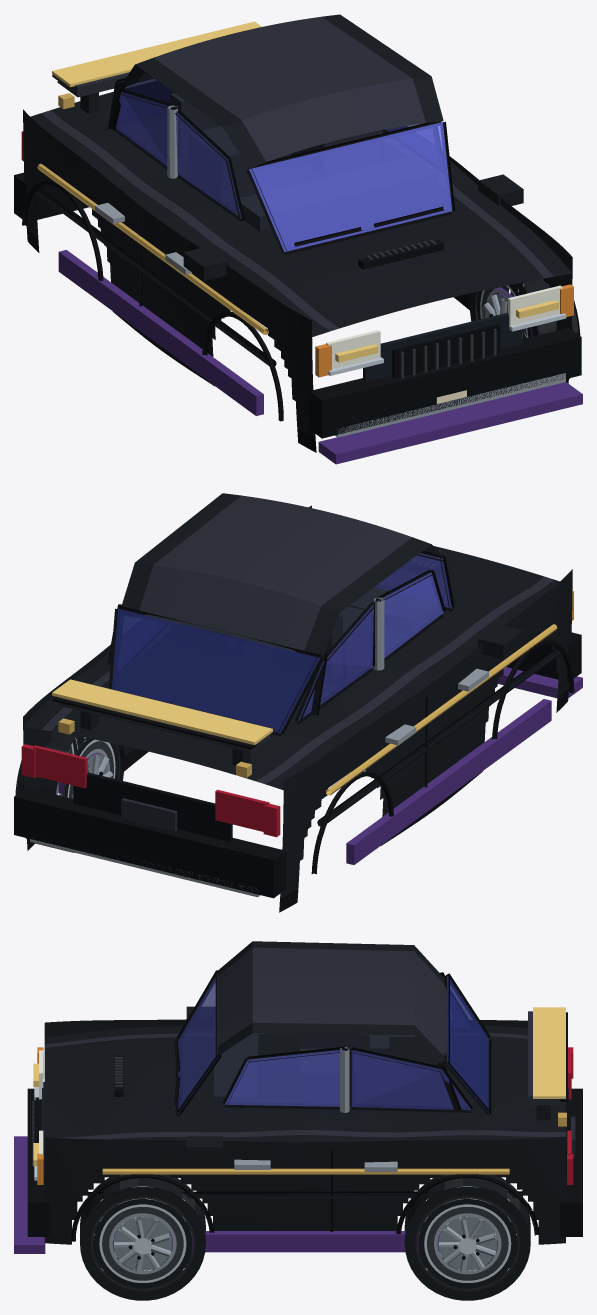
File: black_maria_complete_royal.obj
The picture shows the model from 3 angles, top to bottom: view 1: azimuth 30°, elevation 25°; view 2: azimuth 150°, elevation 25°; view 3: azimuth 270°, elevation 25°; orthographic projection. The views are drawn at different scales.
Visible parts, largest first — view 1: BODY_HOOD, ROOF, BODY_SIDE, FRONT_GLASS, BUMPERS, ROYAL_LIP, DASHBOARD, WINDOW_FRAMES, ROYAL_SKIRTS, SEATS, FRONT_SIDE_GLASS, WING_EDGE (+21 smaller); view 2: ROOF, BODY_HOOD, BODY_SIDE, REAR_GLASS, BUMPERS, ROYAL_SKIRTS, WING_EDGE, WINDOW_FRAMES, END_PANEL, REAR_LIGHTS, FRONT_SIDE_GLASS, REAR_SIDE_GLASS (+18 smaller); view 3: BODY_HOOD, BODY_SIDE, ROOF, WHEEL_SIDE, WINDOW_FRAMES, FRONT_SIDE_GLASS, REAR_SIDE_GLASS, ROYAL_SKIRTS, BUMPERS, SEATS, REAR_GLASS, WHEEL_DISC (+15 smaller).
Part boxes in pixels (x1=…): BODY_HOOD: x1=28, y1=92, x2=572, y2=337; ROOF: x1=119, y1=14, x2=443, y2=168; BODY_SIDE: x1=23, y1=109, x2=572, y2=452; FRONT_GLASS: x1=249, y1=122, x2=451, y2=251; BUMPERS: x1=14, y1=172, x2=581, y2=438; ROYAL_LIP: x1=318, y1=382, x2=582, y2=464; DASHBOARD: x1=236, y1=156, x2=436, y2=231; WINDOW_FRAMES: x1=109, y1=77, x2=455, y2=254; ROYAL_SKIRTS: x1=58, y1=250, x2=539, y2=415; SEATS: x1=189, y1=126, x2=379, y2=202; FRONT_SIDE_GLASS: x1=173, y1=108, x2=442, y2=218; WING_EDGE: x1=52, y1=21, x2=261, y2=87; ROOF: x1=121, y1=493, x2=442, y2=658; BODY_HOOD: x1=23, y1=546, x2=569, y2=790; BODY_SIDE: x1=23, y1=505, x2=572, y2=912; REAR_GLASS: x1=112, y1=608, x2=319, y2=733; BUMPERS: x1=14, y1=632, x2=581, y2=898; ROYAL_SKIRTS: x1=58, y1=699, x2=551, y2=864; WING_EDGE: x1=52, y1=679, x2=272, y2=744; WINDOW_FRAMES: x1=109, y1=550, x2=454, y2=736; END_PANEL: x1=73, y1=772, x2=232, y2=841; REAR_LIGHTS: x1=33, y1=745, x2=269, y2=831; FRONT_SIDE_GLASS: x1=378, y1=572, x2=443, y2=657; REAR_SIDE_GLASS: x1=298, y1=604, x2=373, y2=720; BODY_HOOD: x1=44, y1=1025, x2=565, y2=1152; BODY_SIDE: x1=44, y1=1019, x2=565, y2=1244; ROOF: x1=218, y1=941, x2=446, y2=1068; WHEEL_SIDE: x1=80, y1=1174, x2=530, y2=1300; WINDOW_FRAMES: x1=175, y1=970, x2=491, y2=1116; FRONT_SIDE_GLASS: x1=225, y1=1049, x2=344, y2=1106; REAR_SIDE_GLASS: x1=351, y1=1050, x2=471, y2=1110; ROYAL_SKIRTS: x1=114, y1=1231, x2=441, y2=1252; BUMPERS: x1=27, y1=1088, x2=582, y2=1236; SEATS: x1=300, y1=1034, x2=359, y2=1116; REAR_GLASS: x1=447, y1=975, x2=488, y2=1112; WHEEL_DISC: x1=113, y1=1198, x2=497, y2=1270.
Bounding box in the file's own units: 2.06 × 1.68 × 3.45.
